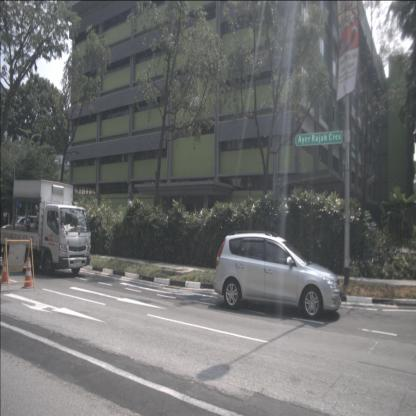movable_object-trafficcone: (22, 257, 34, 288), (1, 254, 9, 284)
vehicle-car: (213, 230, 341, 321), (1, 216, 45, 244)
vehicle-truck: (12, 179, 91, 277)
